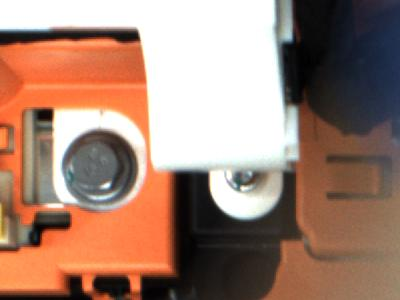nut_b: (59, 134, 133, 211)
